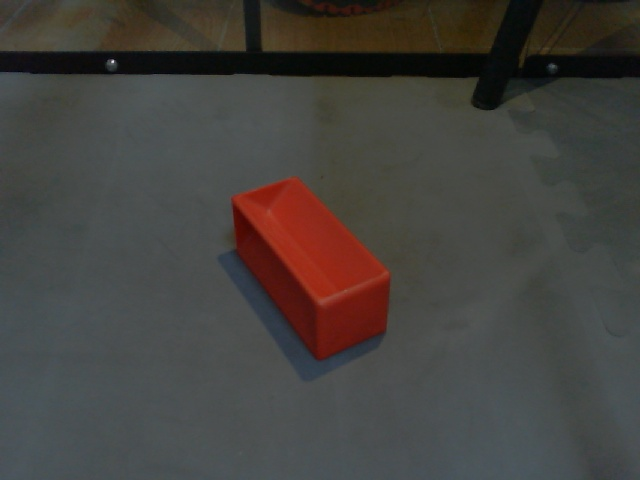RedSample: (231, 174, 390, 364)
